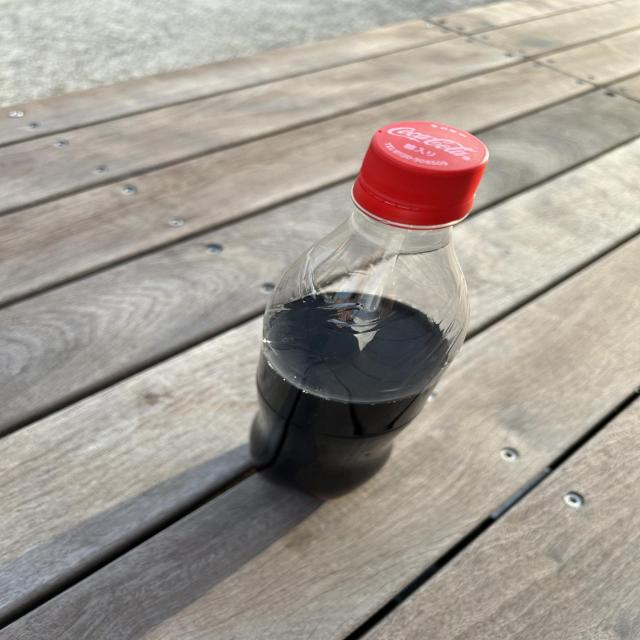medium: (250, 119, 489, 497)
